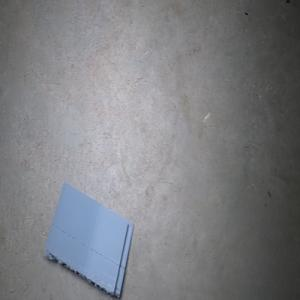PlasticPart: (42, 181, 134, 299)
